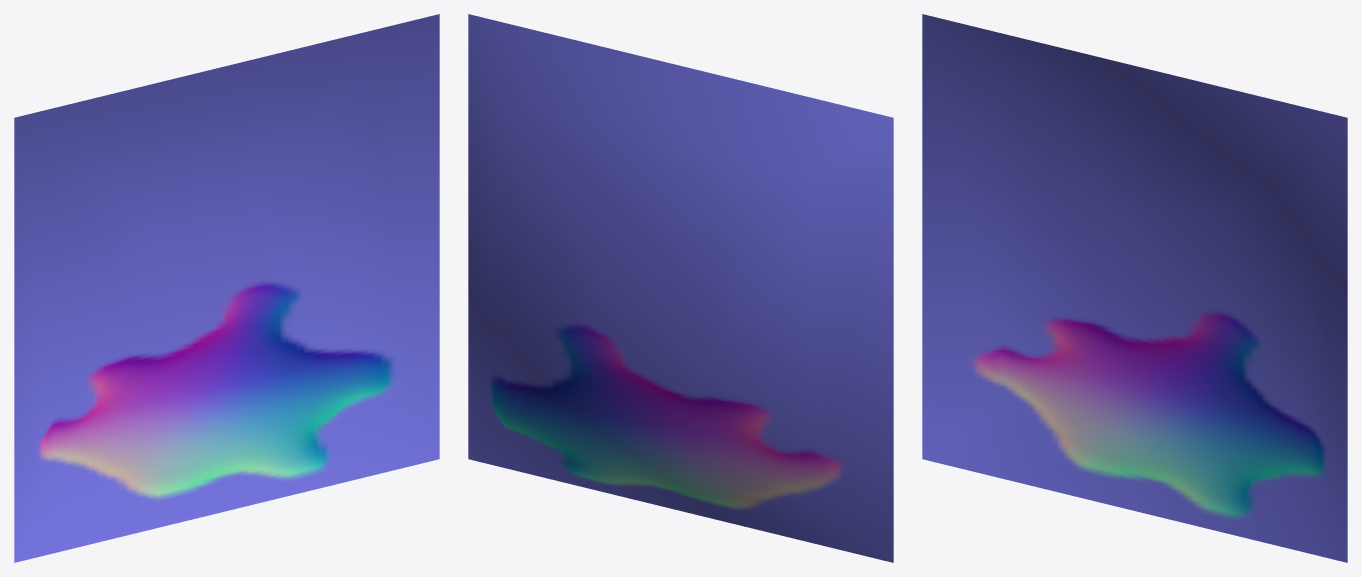
File: p_mesh_trashbot_splatter_plane02.fbx
The picture shows the model from 3 angles, left to right: view 1: azimuth 30°, elevation 25°; view 2: azimuth 150°, elevation 25°; view 3: azimuth 330°, elevation 25°; orthographic projection.
Parts seen in each view (by area): view 1: Plane.003; view 2: Plane.003; view 3: Plane.003.
Part boxes in pixels (x1,y1,x2,y2): Plane.003: (14, 14, 439, 562); Plane.003: (468, 14, 893, 562); Plane.003: (922, 14, 1347, 562).
Bounding box in the file's own units: 2.48 × 2.48 × 0.3064.
